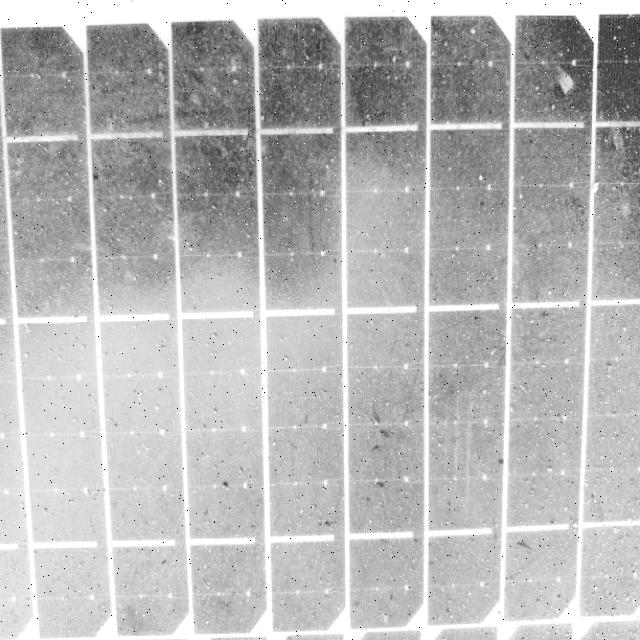Surface Contaminant: (0, 12, 580, 630)
